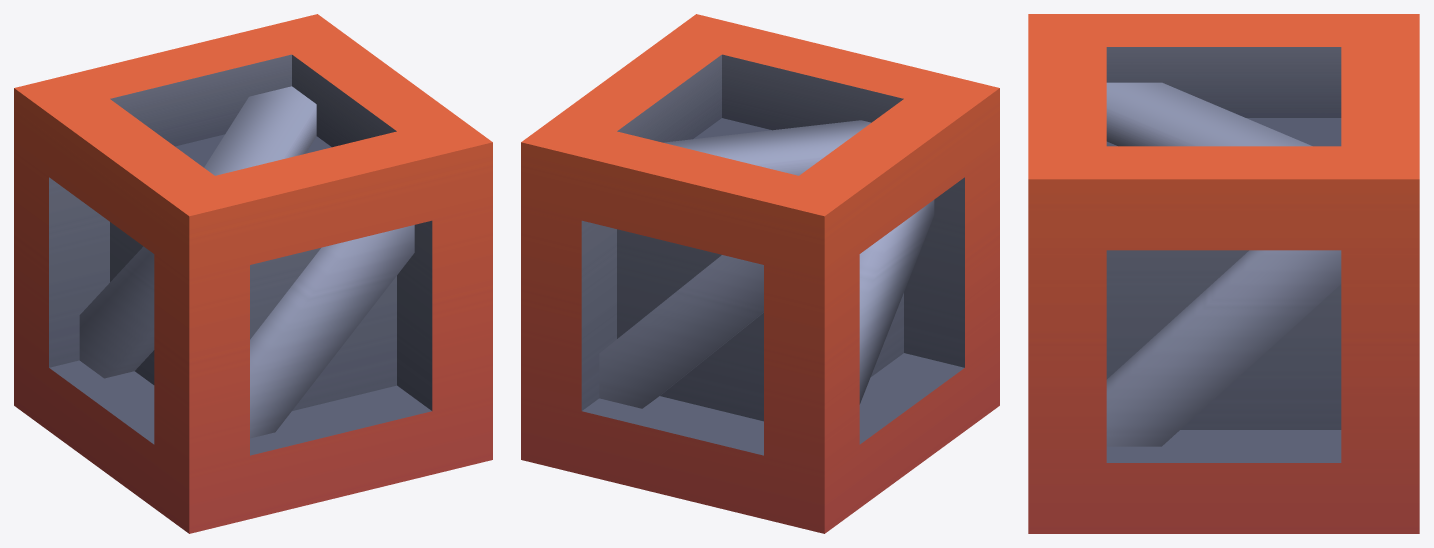
Rendered from crate-color.fbx.
3 views of the same model, side by side, from view 1: azimuth 30°, elevation 25°; view 2: azimuth 150°, elevation 25°; view 3: azimuth 270°, elevation 25° (orthographic). The views are drawn at different scales.
Parts seen in each view (by area): view 1: crate-color; view 2: crate-color; view 3: crate-color.
Part boxes in pixels (box(x1,y1,x2,y2)): crate-color: box(14, 14, 492, 533); crate-color: box(521, 14, 999, 533); crate-color: box(1028, 14, 1419, 533).
Bounding box in the file's own units: 50 × 50 × 50.
